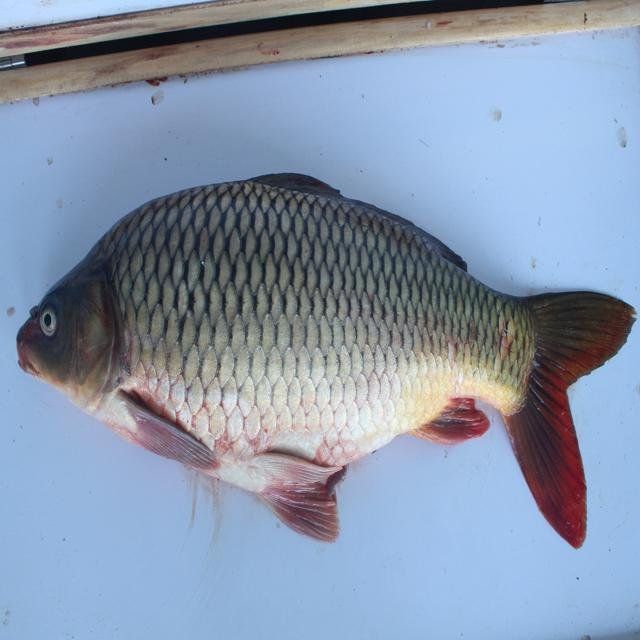Grass Carp: (15, 163, 639, 552)
